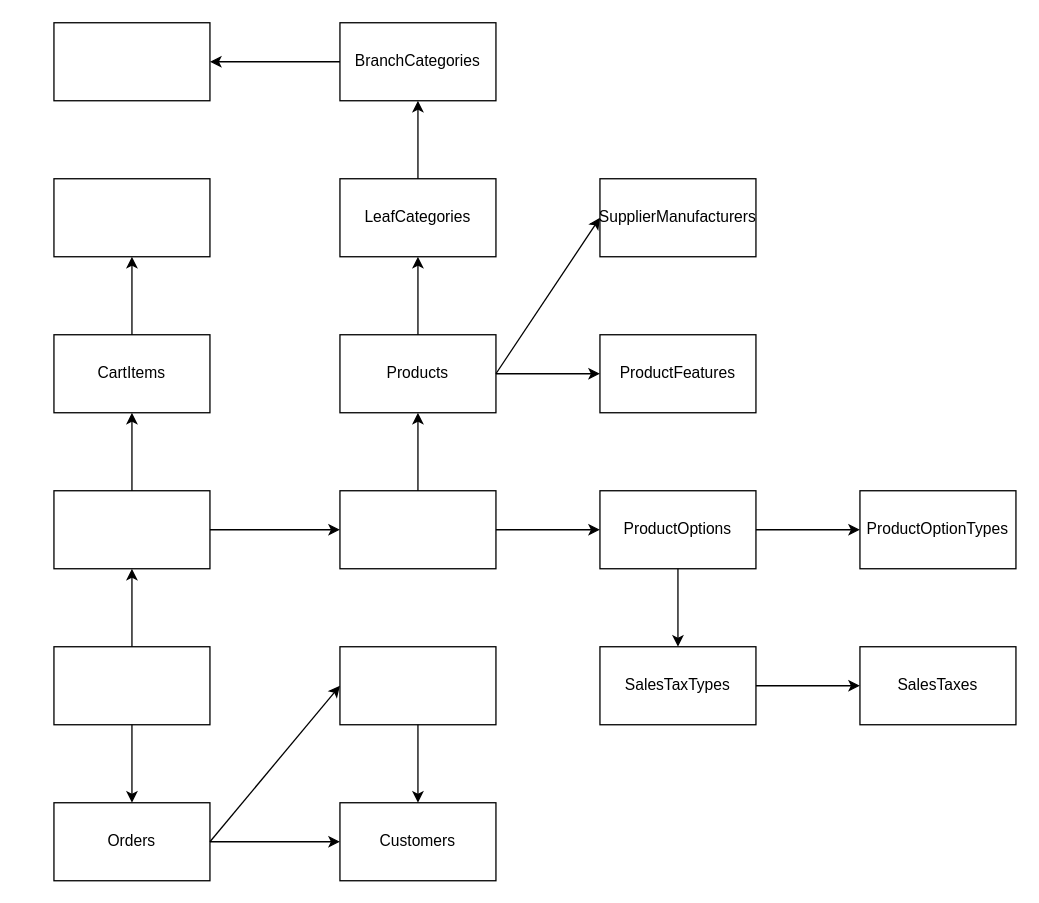
This 1039x903 diagram has some shape labels left out. The shapes that lost their labels are listed below. From the top down, each one's box as (x1, y1, x2, y2) in pixels, then its label:
(53, 21, 210, 101): MetaCategories
(53, 177, 210, 257): Carts
(53, 489, 210, 569): ProductOptionProductInstances
(339, 489, 496, 569): ProductOptionProducts
(53, 645, 210, 725): OrderDetails
(339, 645, 496, 725): Addresses
